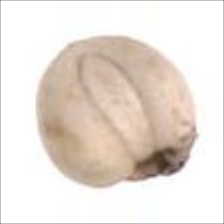L5: (75, 51, 158, 163), (123, 132, 198, 181), (47, 36, 97, 69)
L6: (31, 32, 200, 191)
